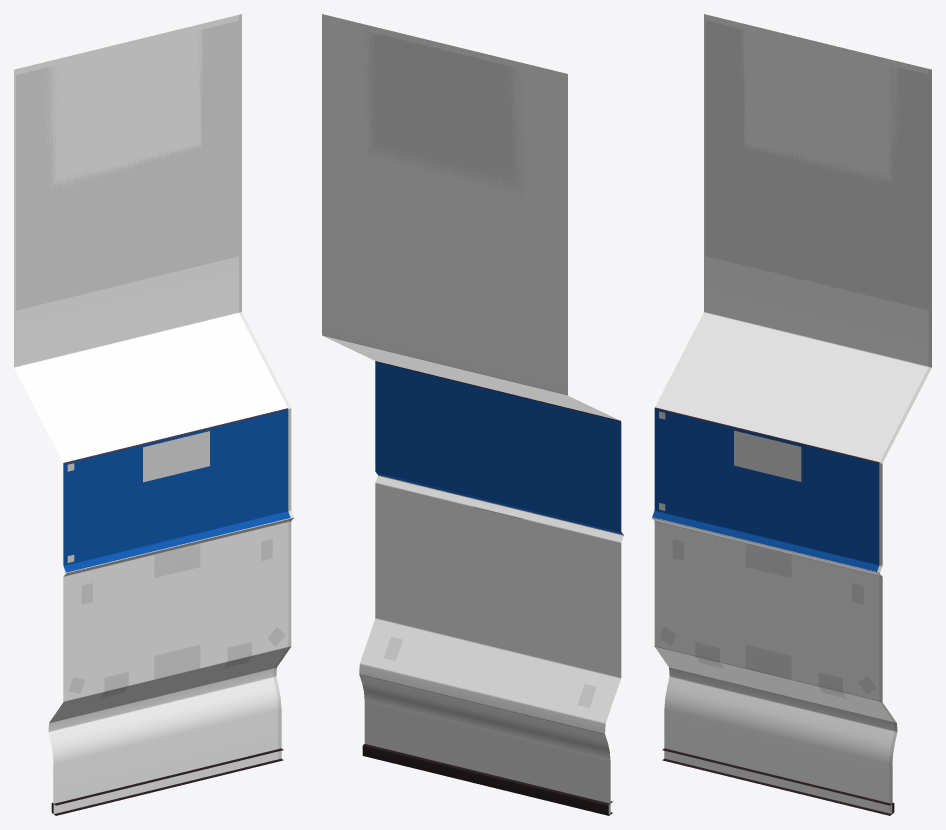
Rendered from SingleWall.fbx.
The picture shows the model from 3 angles, left to right: view 1: azimuth 30°, elevation 25°; view 2: azimuth 150°, elevation 25°; view 3: azimuth 330°, elevation 25°; orthographic projection. The views are drawn at different scales.
Parts seen in each view (by area): view 1: Cube.040; view 2: Cube.040; view 3: Cube.040.
Boxes of the visible parts, x1,y1,x2,y2 form: Cube.040: [14, 14, 293, 815]; Cube.040: [322, 14, 623, 815]; Cube.040: [652, 14, 931, 815].
Bounding box in the file's own units: 200 × 600 × 78.72.
